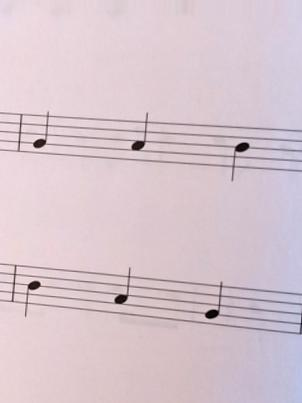note: (124, 109, 154, 172), (17, 259, 45, 326), (108, 264, 137, 324), (200, 274, 227, 336), (228, 122, 253, 186), (26, 107, 53, 159)
